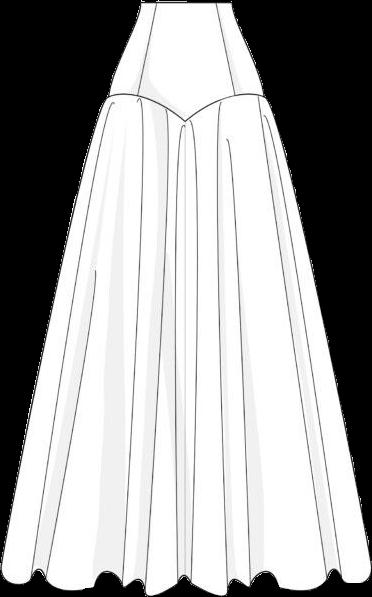Hemline: (0, 566, 371, 596)
Waistline: (104, 92, 265, 123), (139, 0, 232, 9)
